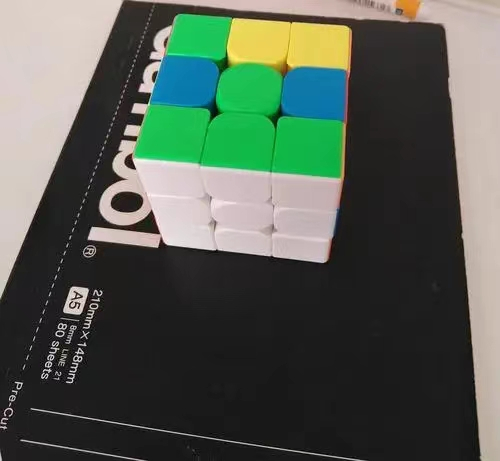cube: (130, 11, 353, 268)
